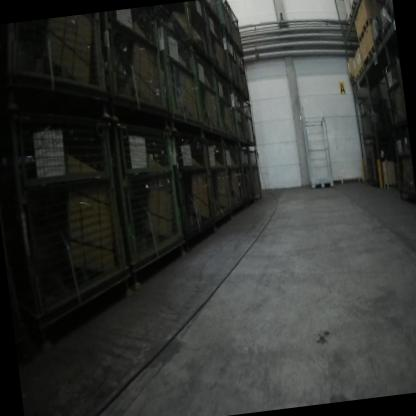stillage: (0, 82, 139, 336), (111, 96, 191, 287), (0, 14, 111, 120), (92, 7, 169, 124), (167, 109, 218, 242), (153, 13, 202, 134), (183, 30, 224, 140), (204, 124, 235, 225), (207, 58, 240, 146), (202, 0, 231, 86), (223, 132, 248, 215), (179, 2, 212, 63), (152, 3, 191, 48), (220, 29, 244, 96), (221, 0, 246, 62), (236, 137, 256, 209), (228, 79, 248, 146), (239, 91, 258, 151), (248, 146, 265, 201), (235, 46, 251, 98)
